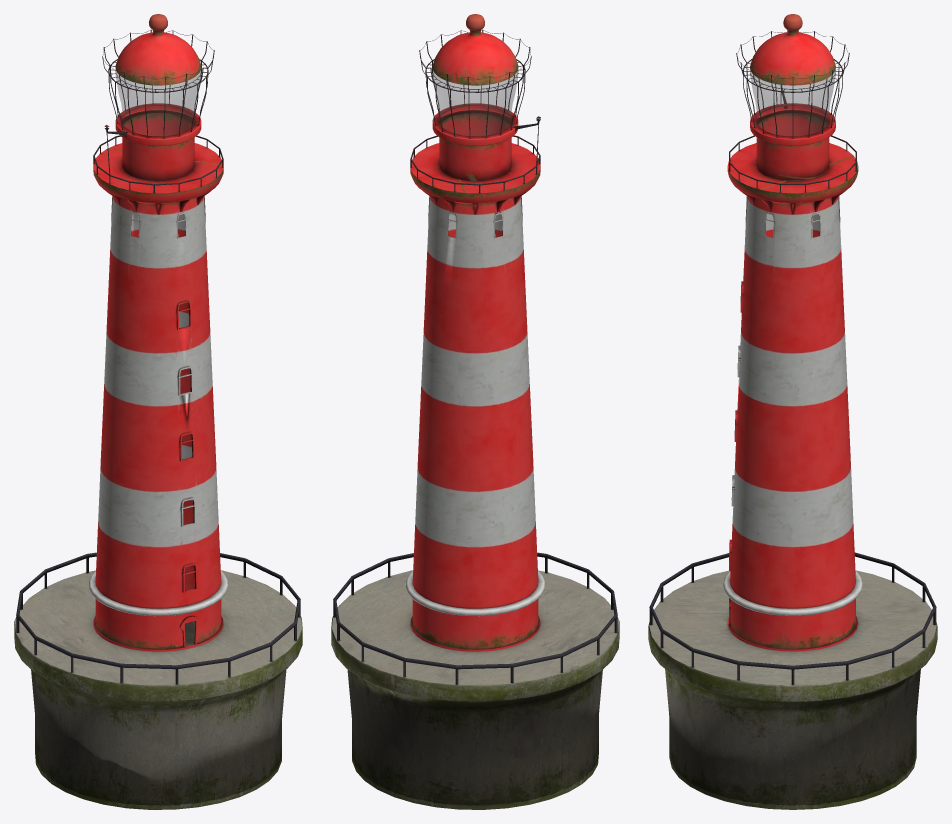
The model's file is lighthouse.glb.
3 views of the same model, side by side, from view 1: azimuth 30°, elevation 25°; view 2: azimuth 150°, elevation 25°; view 3: azimuth 270°, elevation 25° (orthographic).
Visible parts, largest first — view 1: Lighthouse; view 2: Lighthouse; view 3: Lighthouse.
Boxes of the visible parts, left/top/right/bottom form: Lighthouse: left=14, top=14, right=302, bottom=809; Lighthouse: left=331, top=14, right=619, bottom=809; Lighthouse: left=648, top=14, right=937, bottom=809.
Size of the model in its own units: 6.86 by 19.42 by 6.86.
3 materials, 2 textured.
